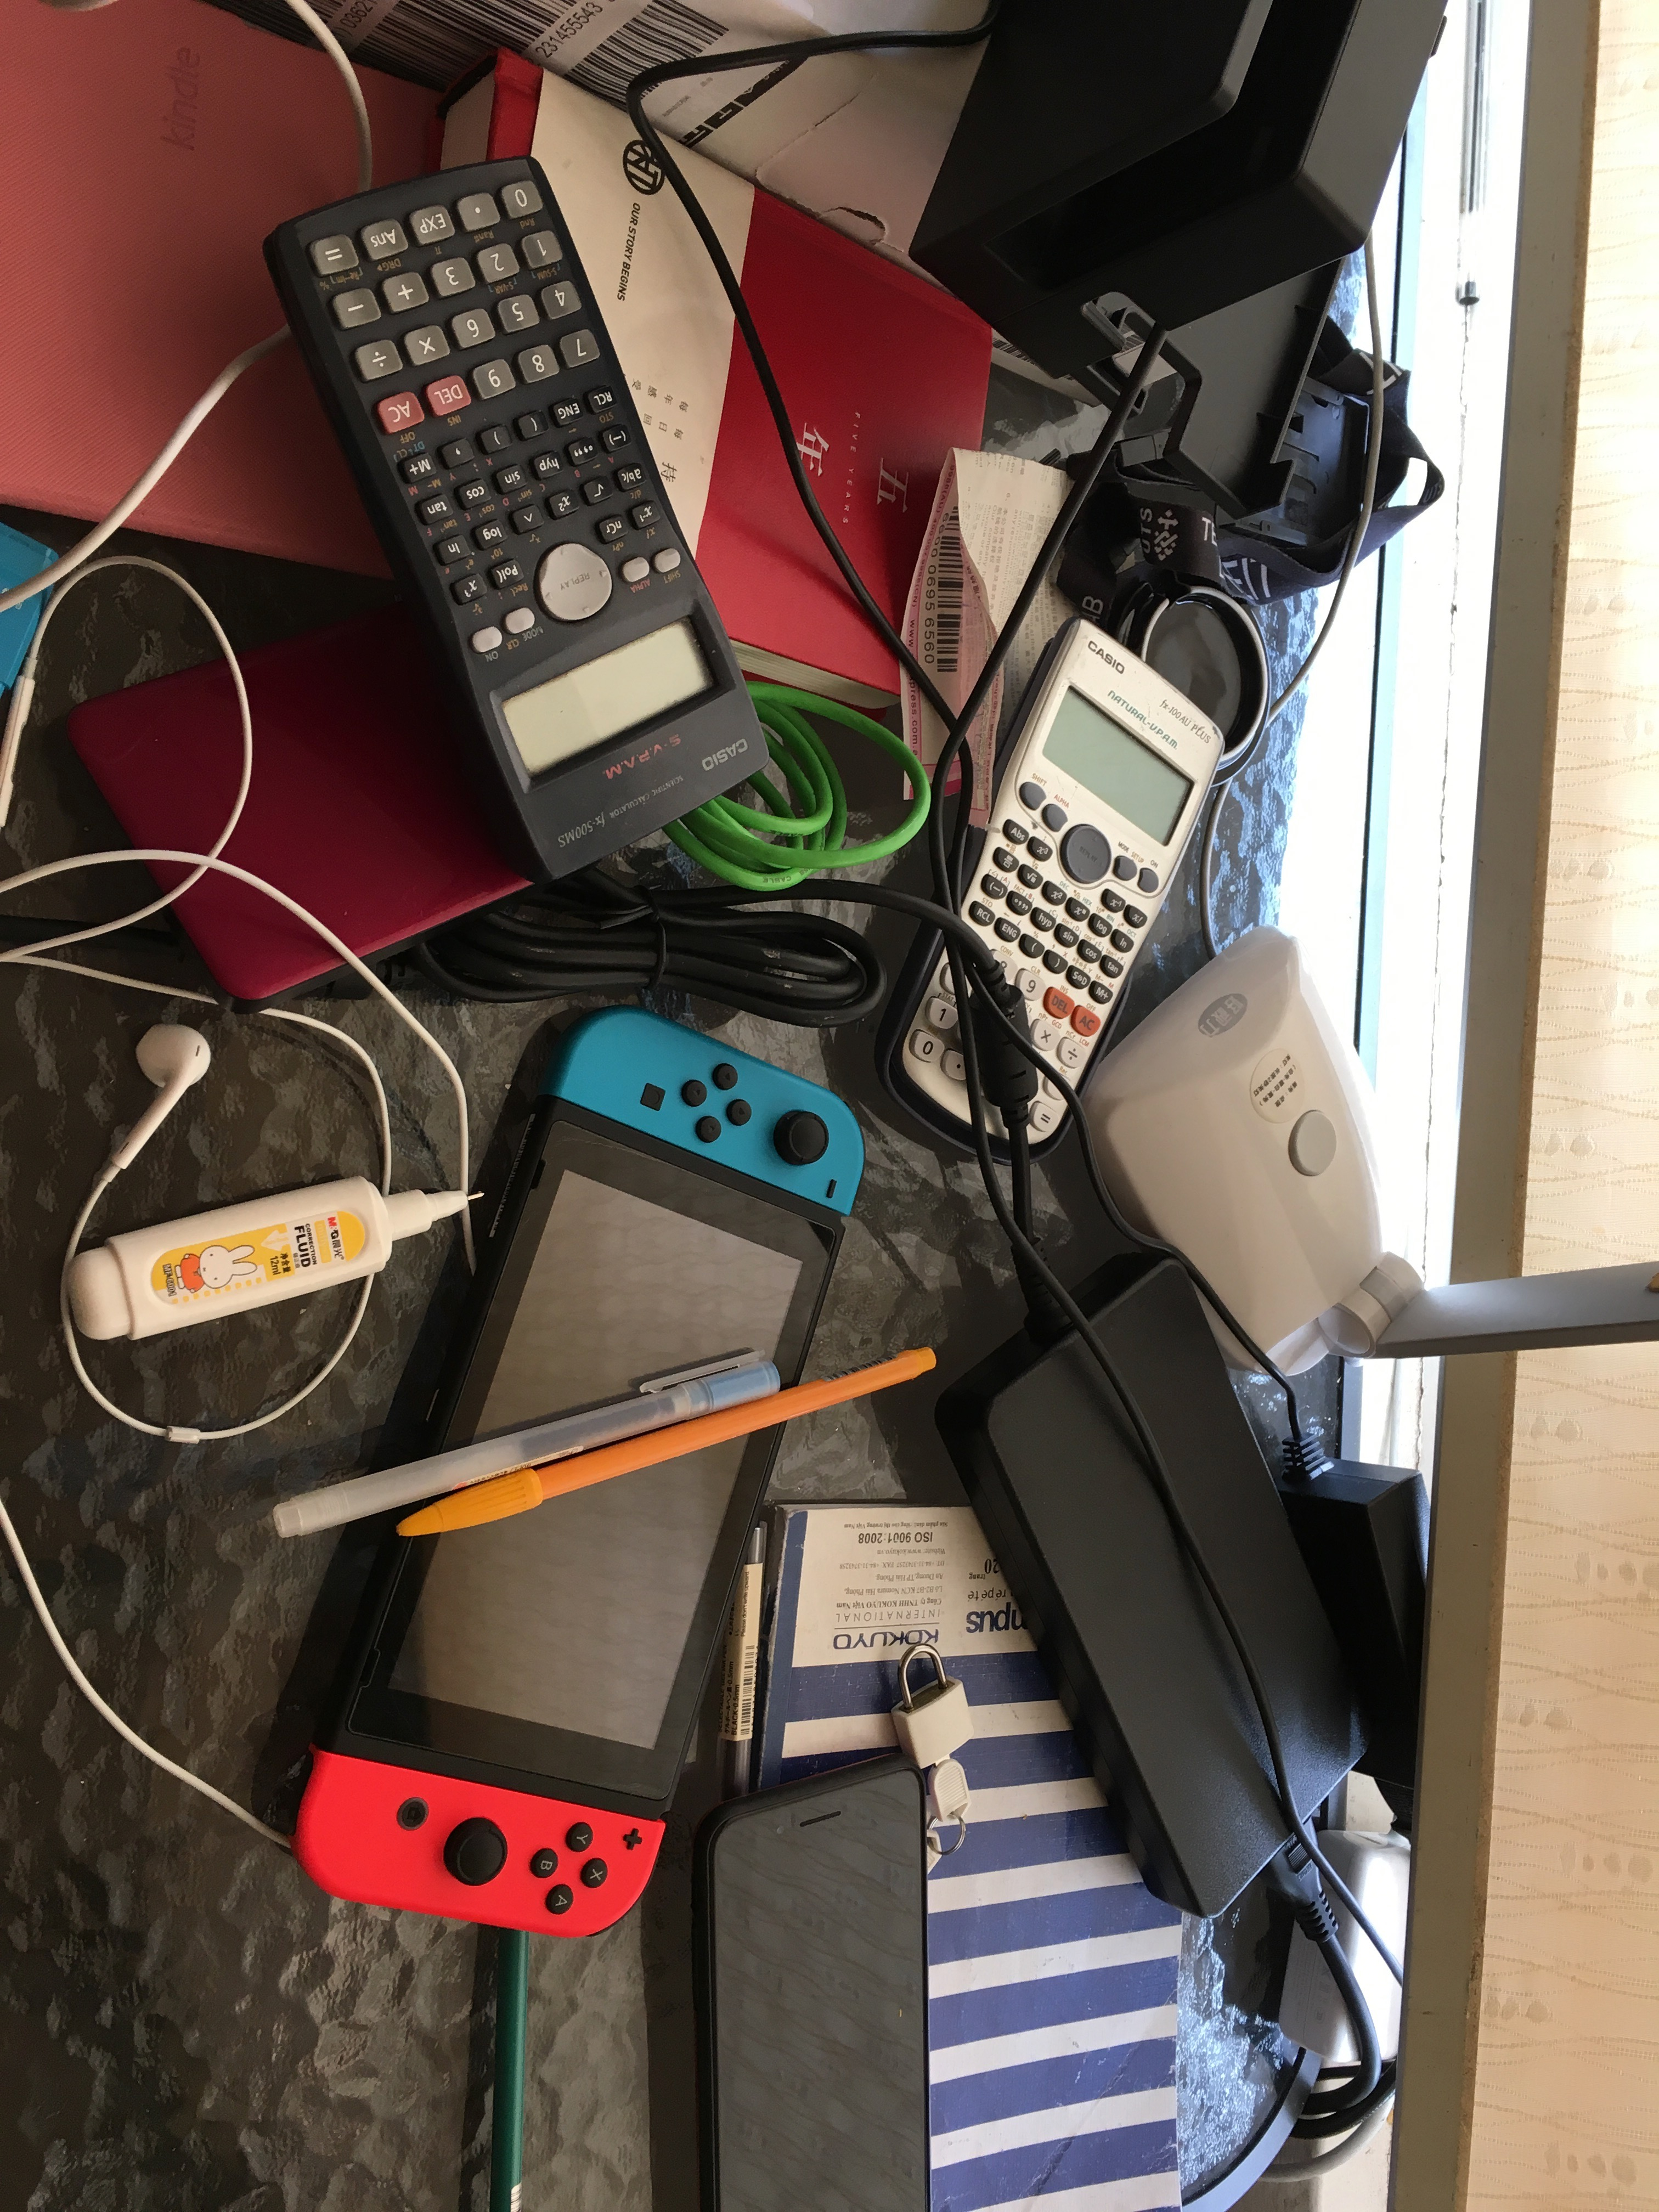Calculator: (254, 145, 788, 906), (884, 601, 1234, 1181)
NintendoSwitch: (251, 1001, 870, 1961)
